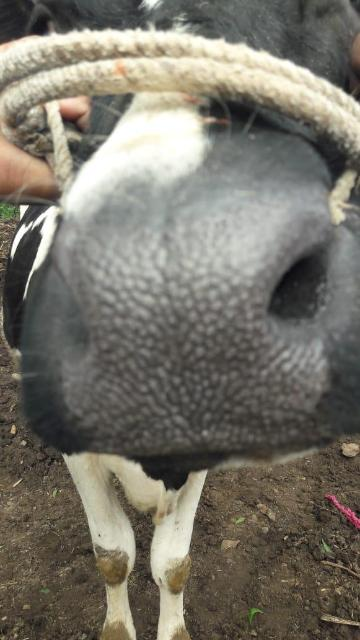Muzzle: (74, 228, 302, 438)
